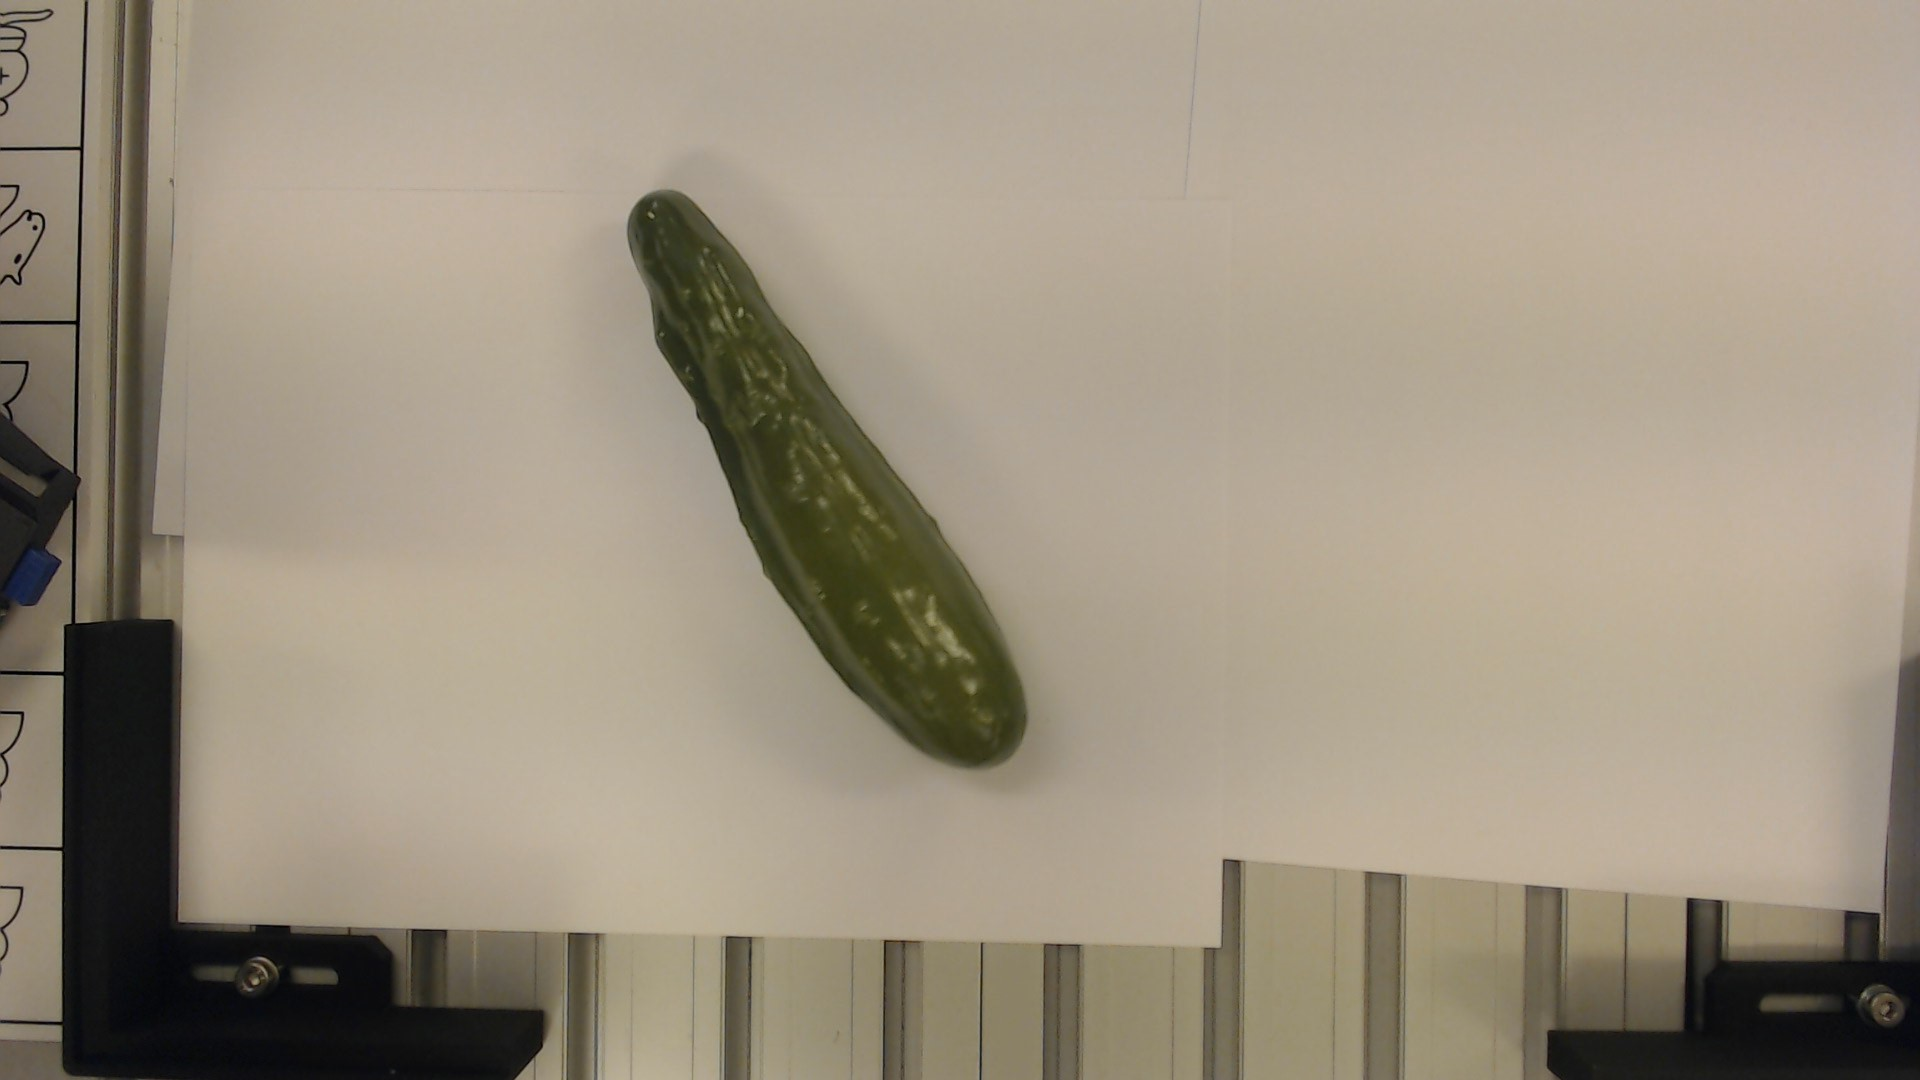Cucumber: (612, 181, 1031, 777)
